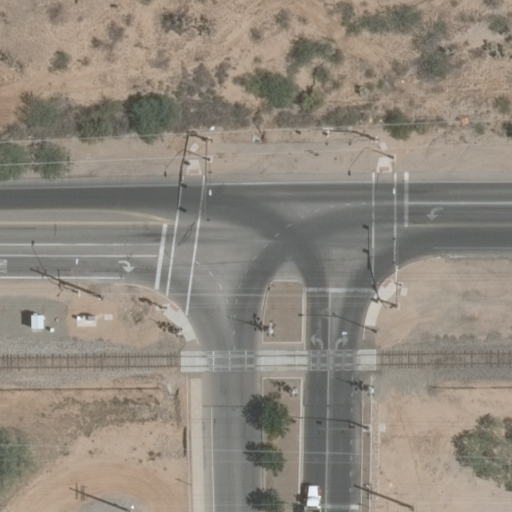DT: (345, 481, 412, 509), (43, 271, 104, 298), (68, 486, 131, 511)
